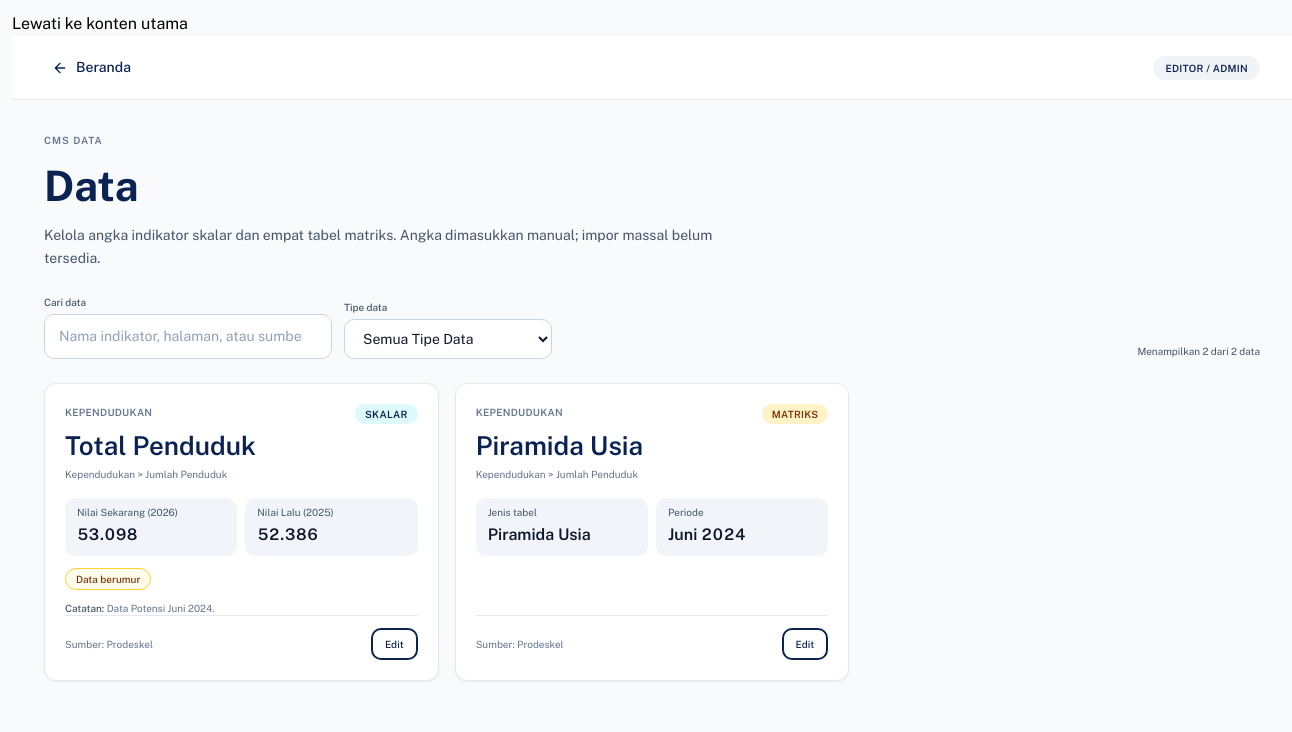
Test case: DataManagementView.vue › filters by search text and by type
This screenshot has width=1292, height=732.
In the search field with id "data-search": x=188, y=336 [44,314,332,359], type "piramida"
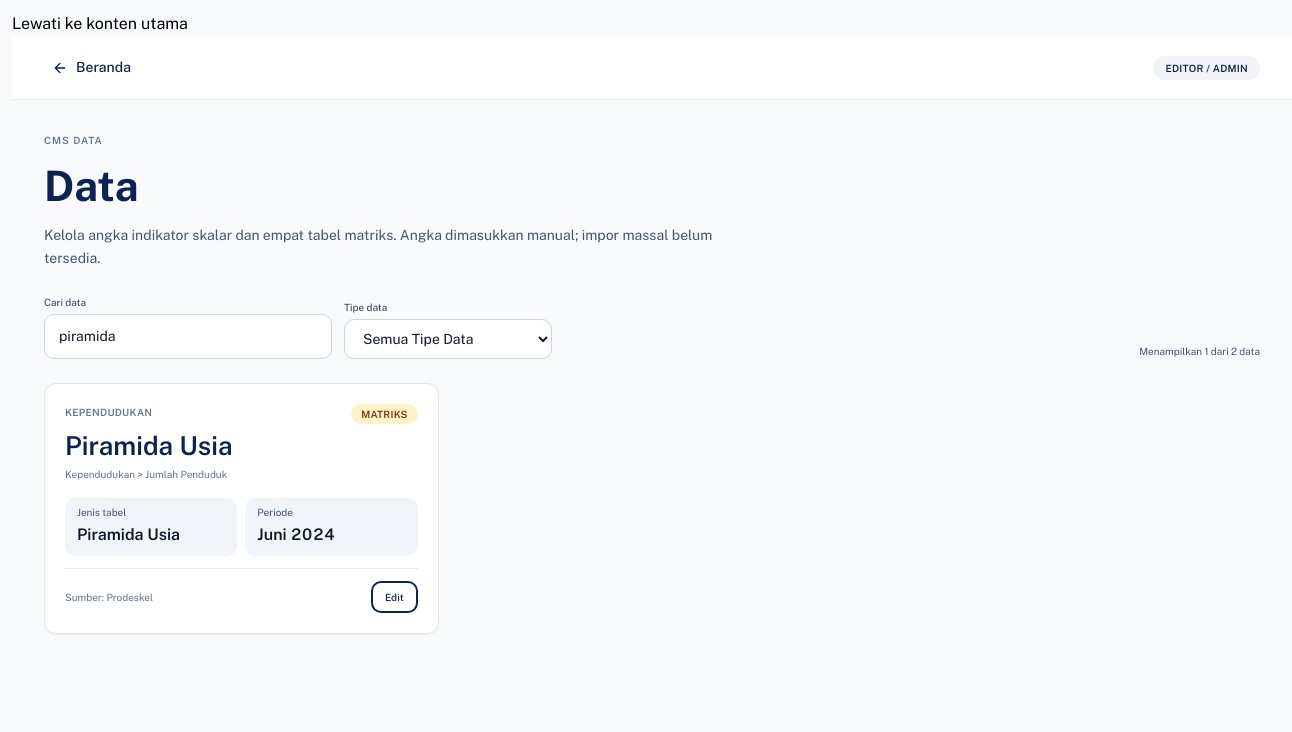
Expected: the text with test id "result-count" reads "Menampilkan 1 dari 2 data", [1139,345,1260,357]
Clear the search field with id "data-search": x=188, y=336 [44,314,332,359]
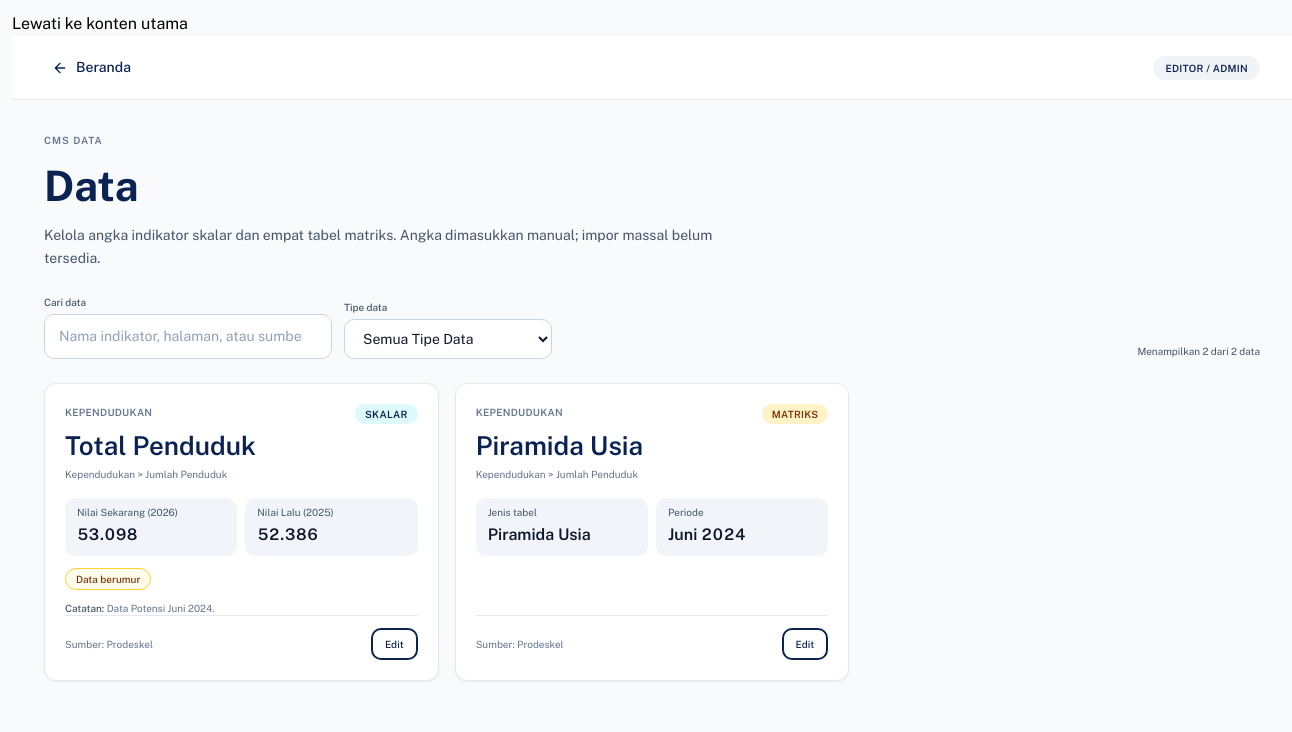
Select "Skalar" in the dropdown with id "data-type": x=448, y=339 [344,319,552,359]
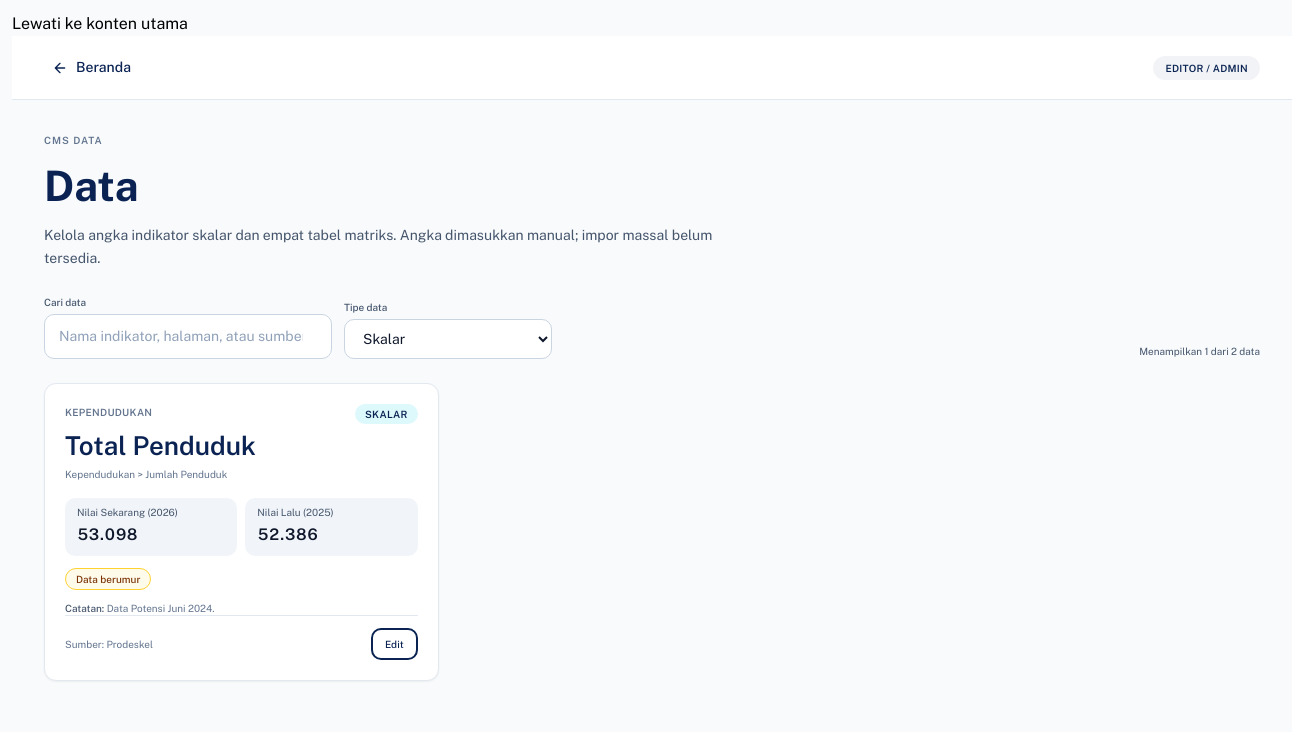
Expected: the element named "Indikator Total Penduduk" shows "Total Penduduk", [65,430,256,461]
Expected: the text with test id "result-count" reads "Menampilkan 1 dari 2 data", [1139,345,1260,357]
